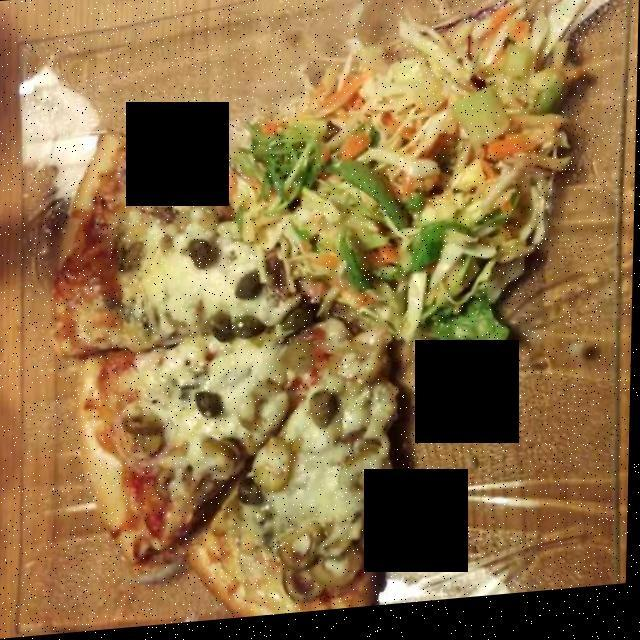capers: (184, 236, 389, 528)
coleslaw: (235, 0, 628, 363)
pizza: (53, 141, 398, 610)
